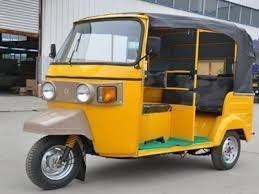keke: (47, 8, 259, 181)
